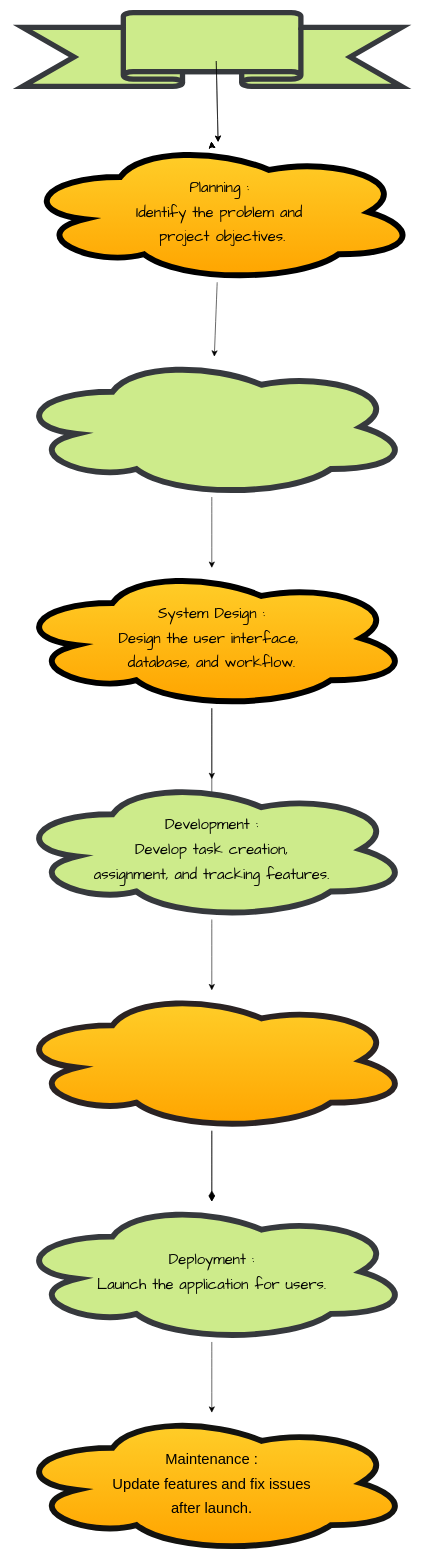
The diagram is 431 pixels wide and 1566 high, and some of its shapes have lost their labels. The shapes that lost their labels are listed below. From the top down, each one's box as (x1, y1, x2, y2) in pixels, then its label:
(20, 10, 404, 89): TASK-MANAGEMENT SYSTEM
(10, 353, 413, 500): Requirement Analysis : Identify user needs and system requirements.
(10, 987, 413, 1133): Testing : Check features and fix errors.
